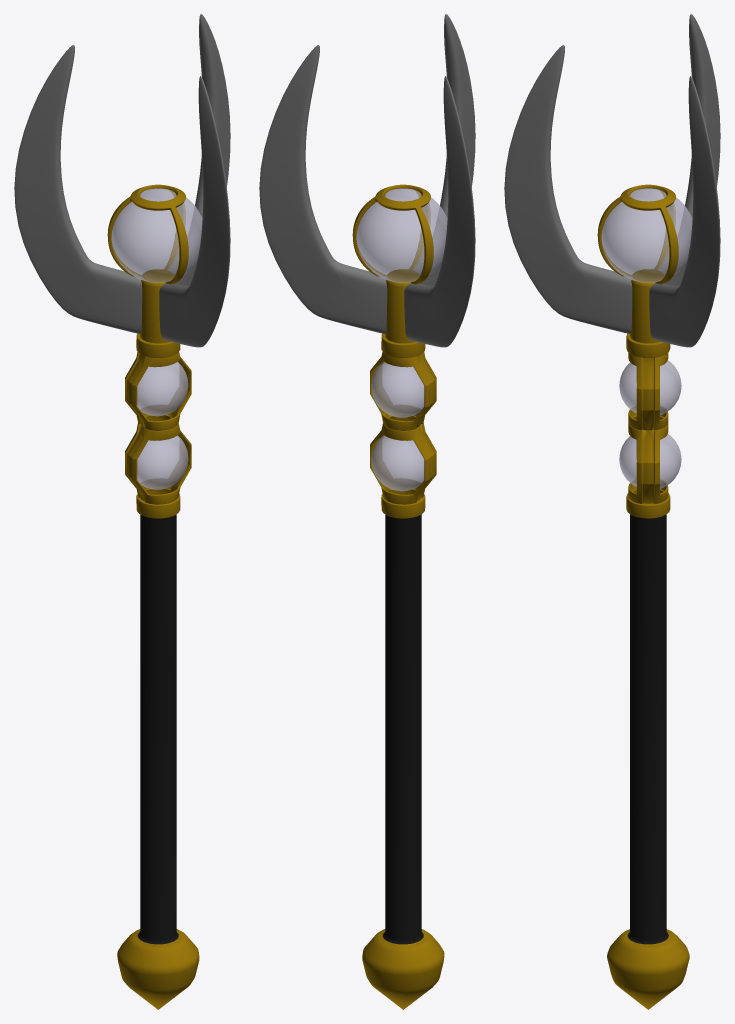
Rendered from Turtle Staff.fbx.
3 renders of one model, left to right at view 1: azimuth 30°, elevation 25°; view 2: azimuth 150°, elevation 25°; view 3: azimuth 270°, elevation 25°, orthographic.
Visible parts, largest first — view 1: Staff, Blade.002, Blade.001, Sphere, Blade.003, Staff.003, Staff.002, Sphere.Harness, Sphere.008, Sphere.007; view 2: Staff, Blade.003, Blade.002, Sphere, Blade.001, Staff.003, Staff.002, Sphere.007, Sphere.008, Sphere.Harness; view 3: Staff, Blade.001, Blade.003, Sphere, Blade.002, Staff.003, Staff.002, Sphere.Harness, Sphere.007, Sphere.008.
Boxes of the visible parts, x1,y1,x2,y2 form: Staff: [117, 269, 199, 1009]; Blade.002: [14, 45, 142, 333]; Blade.001: [159, 76, 230, 347]; Sphere: [111, 188, 202, 282]; Blade.003: [169, 14, 230, 286]; Staff.003: [125, 415, 191, 518]; Staff.002: [125, 333, 191, 430]; Sphere.Harness: [107, 184, 188, 284]; Sphere.008: [137, 435, 188, 489]; Sphere.007: [137, 362, 188, 416]; Staff: [362, 269, 444, 1009]; Blade.003: [259, 45, 387, 333]; Blade.002: [404, 76, 475, 347]; Sphere: [356, 188, 447, 282]; Blade.001: [414, 14, 475, 286]; Staff.003: [370, 415, 436, 518]; Staff.002: [370, 333, 436, 430]; Sphere.007: [371, 362, 424, 417]; Sphere.008: [371, 435, 424, 491]; Sphere.Harness: [352, 184, 433, 284]; Staff: [607, 269, 689, 1009]; Blade.001: [504, 45, 632, 334]; Blade.003: [649, 76, 720, 347]; Sphere: [601, 188, 692, 282]; Blade.002: [659, 14, 720, 286]; Staff.003: [626, 416, 670, 518]; Staff.002: [626, 333, 670, 430]; Sphere.Harness: [597, 184, 678, 284]; Sphere.007: [619, 360, 681, 415]; Sphere.008: [619, 434, 681, 488].
Size of the model in its own units: 68.22 by 291 by 59.12.
